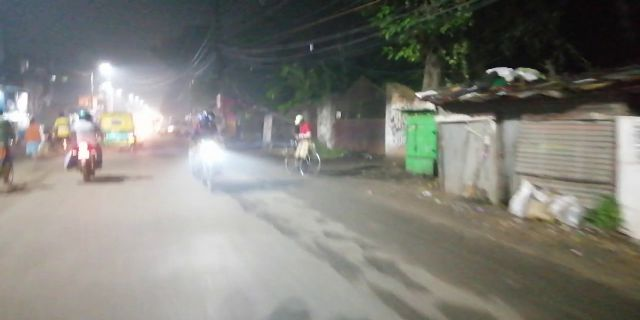Motorbike: (187, 107, 230, 194)
